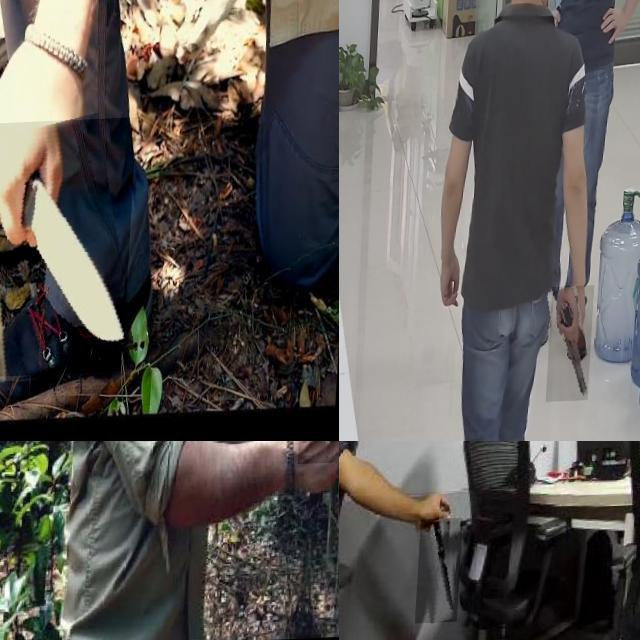-: (0, 120, 140, 381), (422, 521, 470, 626), (303, 441, 339, 545)
gun-knife-thesis - v11 Yolov5 augmented: (552, 289, 600, 405)
